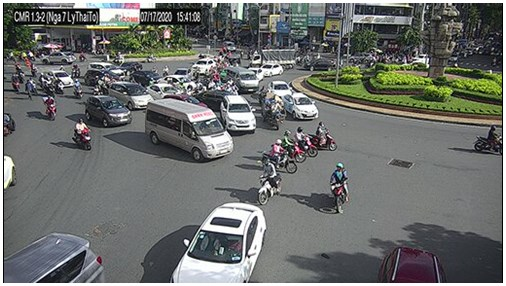xe_hoi: (170, 202, 267, 284), (221, 93, 256, 134), (86, 95, 132, 126), (111, 83, 154, 110), (282, 93, 319, 121), (199, 90, 252, 109), (164, 94, 207, 111), (87, 62, 126, 79), (84, 69, 117, 87), (44, 69, 73, 88), (147, 83, 180, 98), (41, 52, 77, 65), (130, 69, 161, 83), (268, 80, 293, 97), (302, 60, 334, 72), (260, 63, 282, 77), (118, 62, 142, 71)
xe_khach: (145, 98, 233, 163), (223, 66, 259, 91)
xe_may: (262, 139, 297, 173), (330, 163, 350, 214), (259, 159, 281, 204), (277, 130, 307, 162), (308, 122, 337, 152), (473, 125, 502, 155), (73, 117, 92, 152), (45, 93, 57, 120), (10, 73, 21, 93), (72, 79, 82, 97), (14, 61, 23, 73)
xe_tai: (251, 50, 296, 69)
